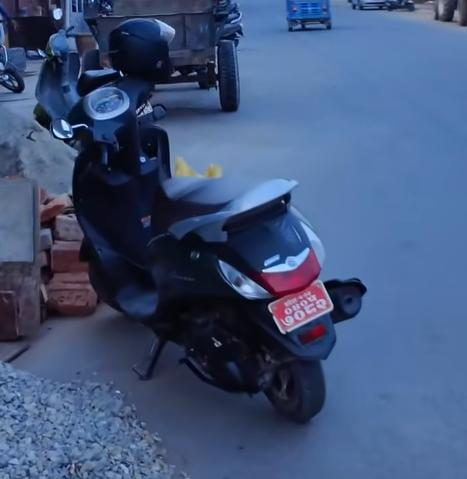scooter: (47, 61, 369, 431)
